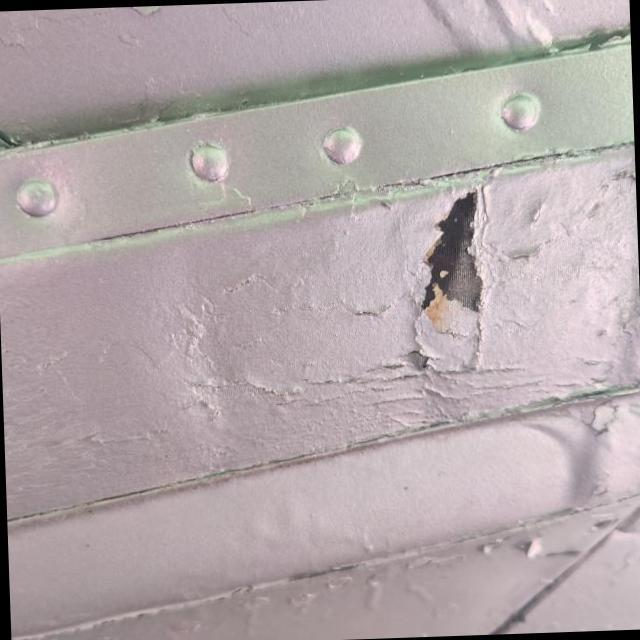Rupture: (402, 178, 515, 331)
